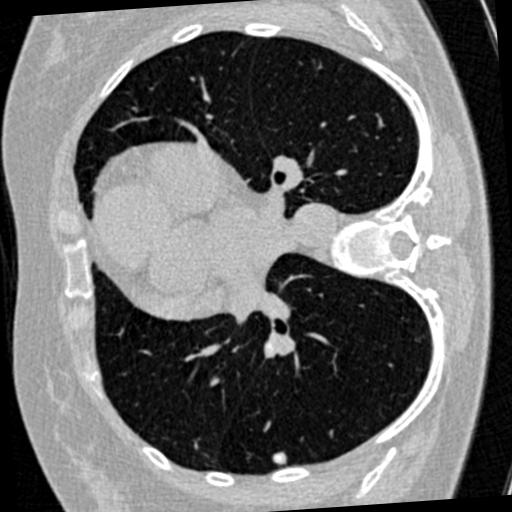nodule: (269, 449, 289, 469)
